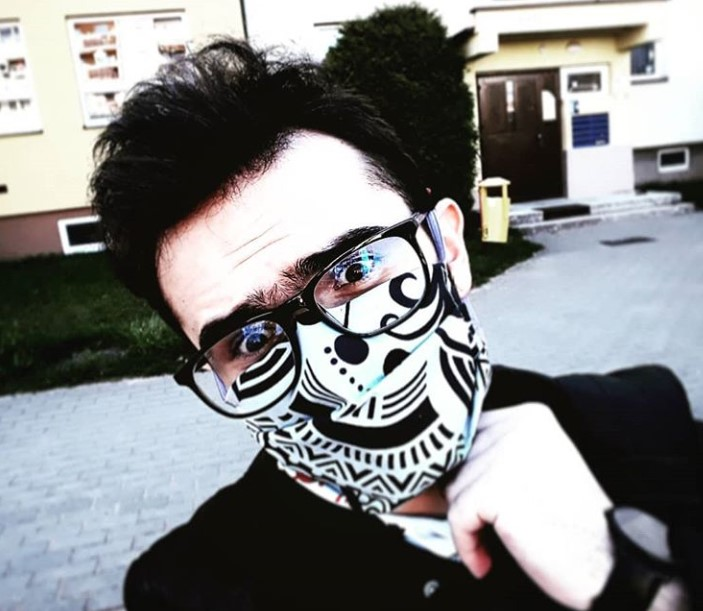face_with_mask: (151, 129, 499, 519)
